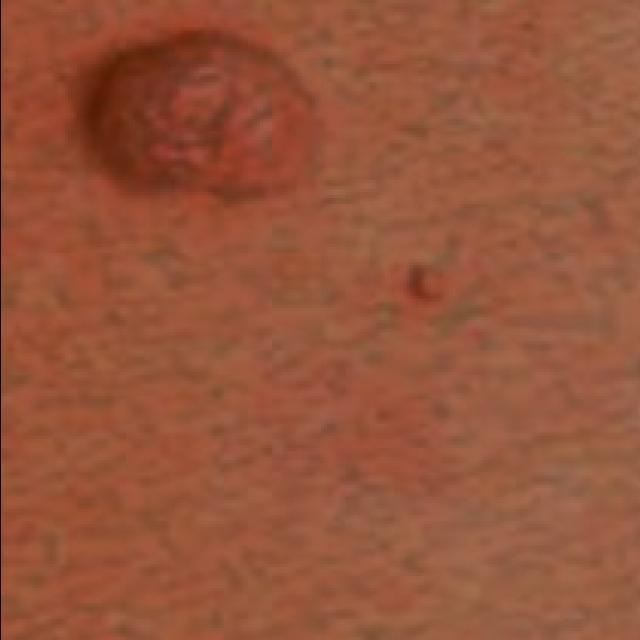wart: (89, 24, 322, 208), (412, 253, 461, 311)
